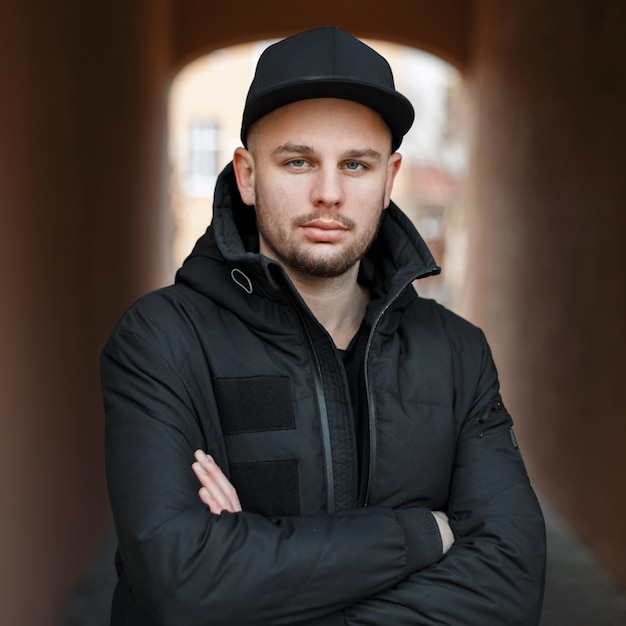young: (237, 46, 417, 263)
